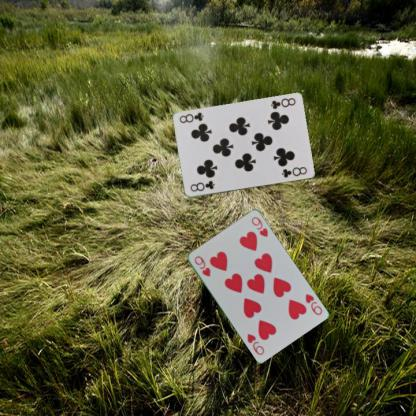8c: (188, 178, 216, 193), (268, 96, 296, 110)
9h: (302, 291, 324, 317), (192, 253, 212, 278)
